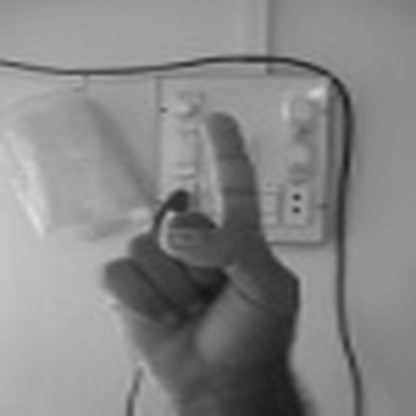d: (100, 111, 302, 391)
